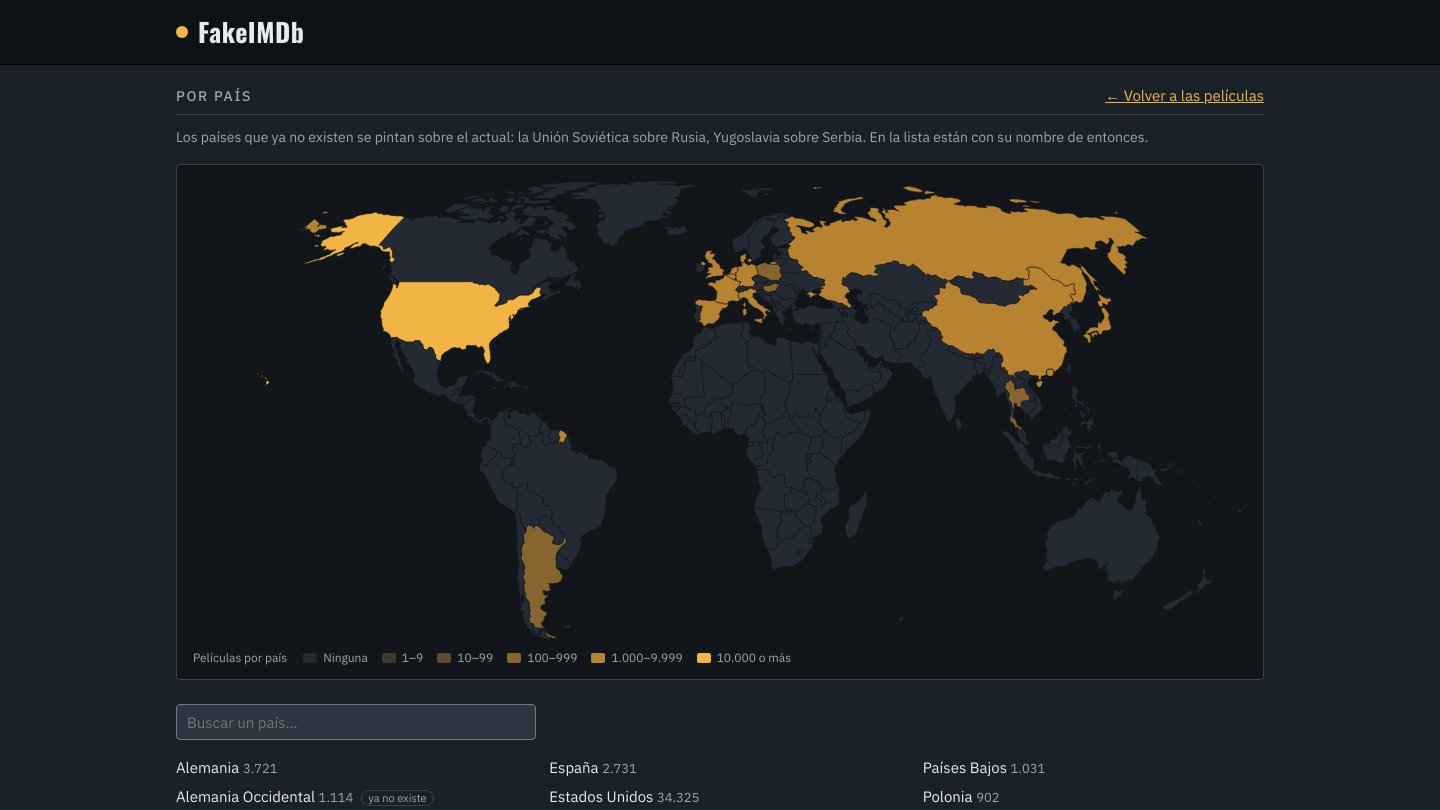
countries page › finds a country without accents, and by its name in the CSV
In the search field labelled "Buscar un país": (356, 722) [176,704,536,740], type "union sov"
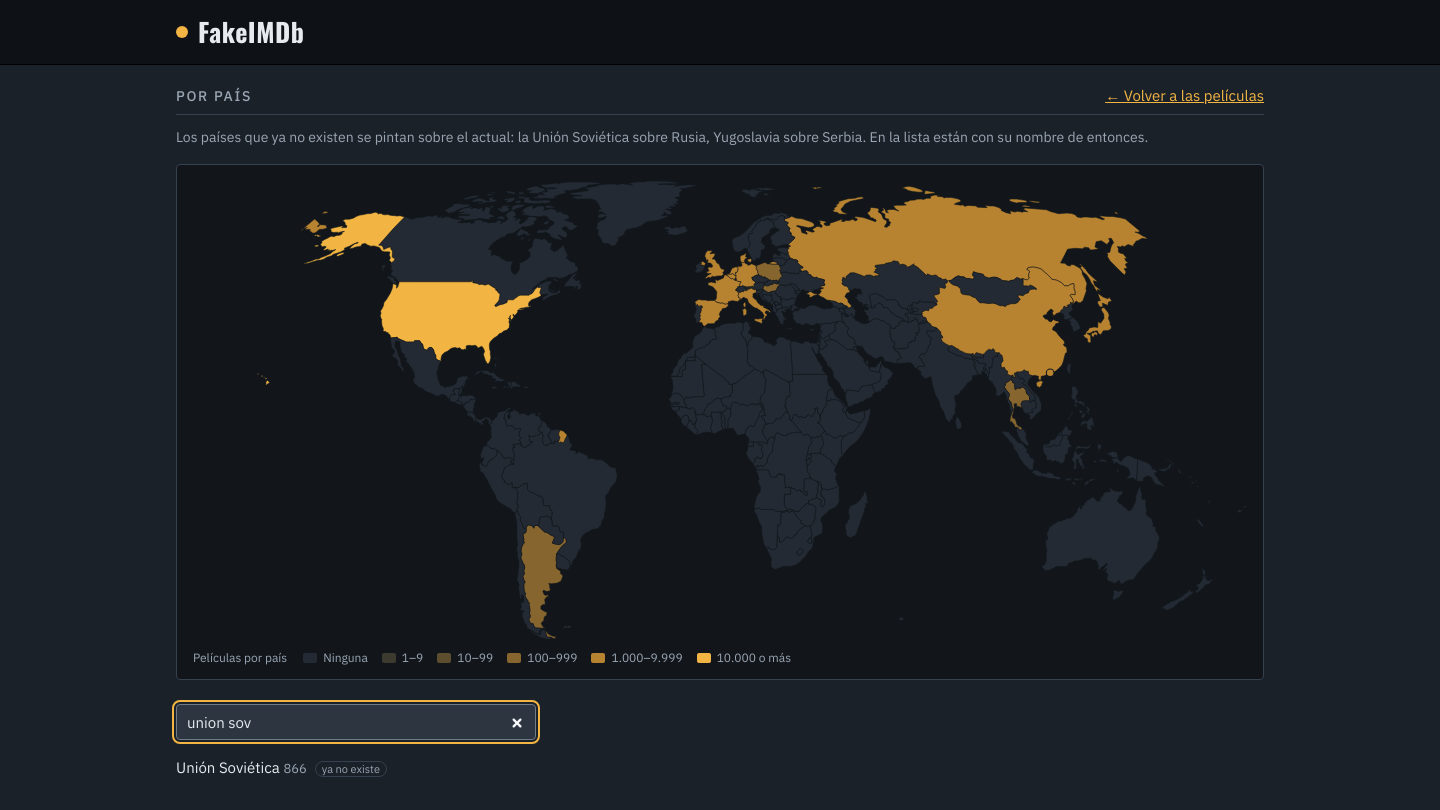
Replace the text in the search field named "Buscar un país" with "west germ": (356, 722) [176,704,536,740]
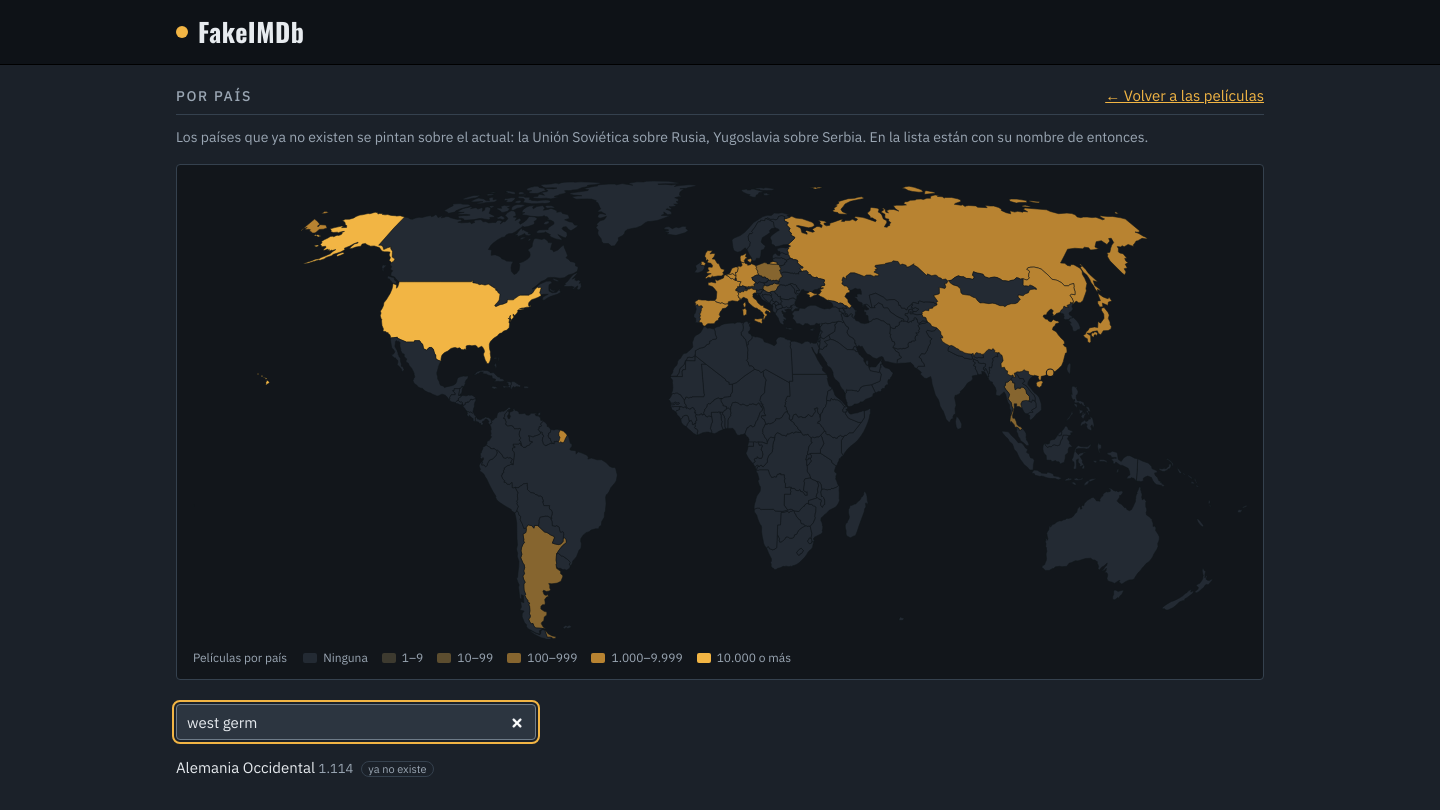
Replace the text in the search field named "Buscar un país" with "zzz": (356, 722) [176,704,536,740]
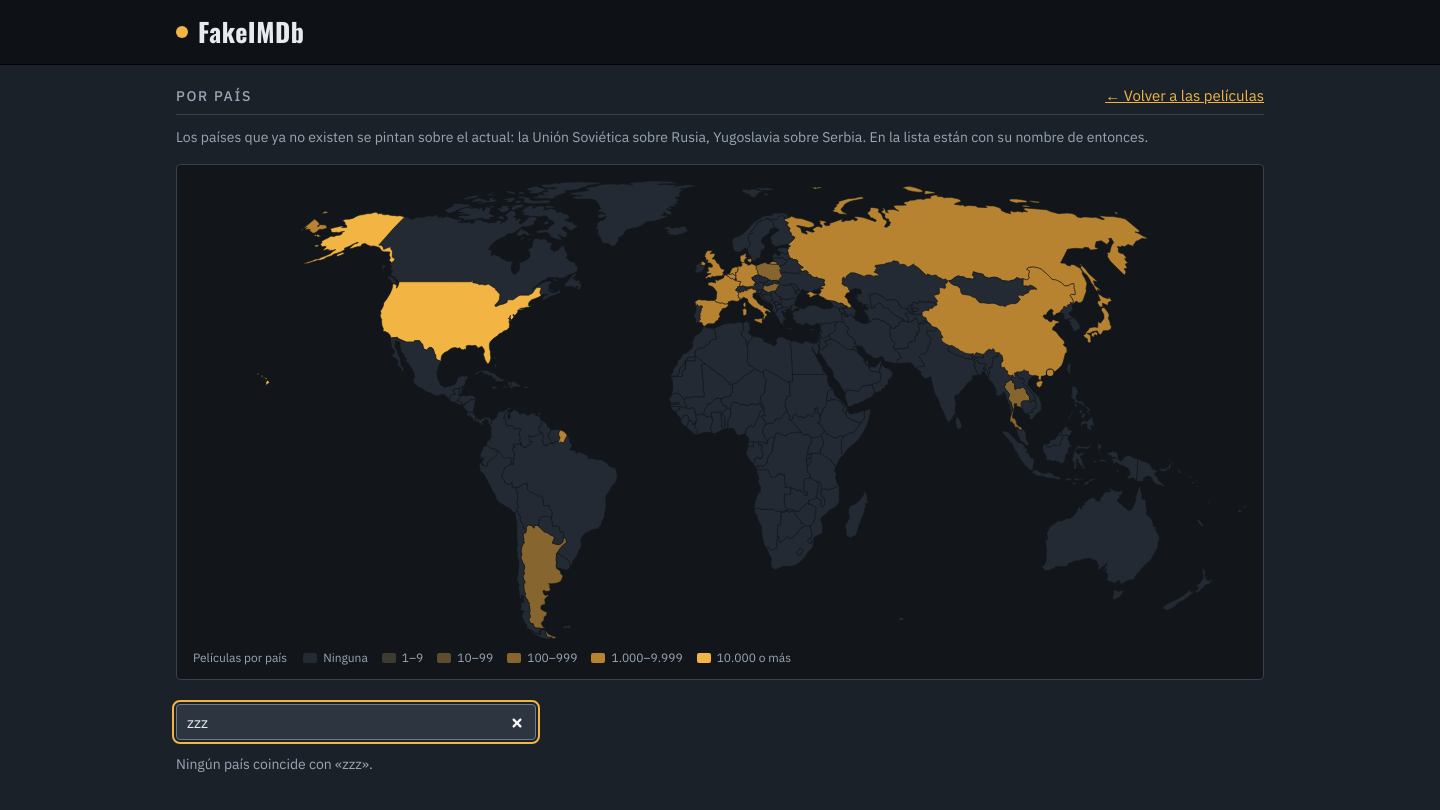
Check: the text "Ningún país coincide con «zzz»." is shown, box [176,755,373,773]
